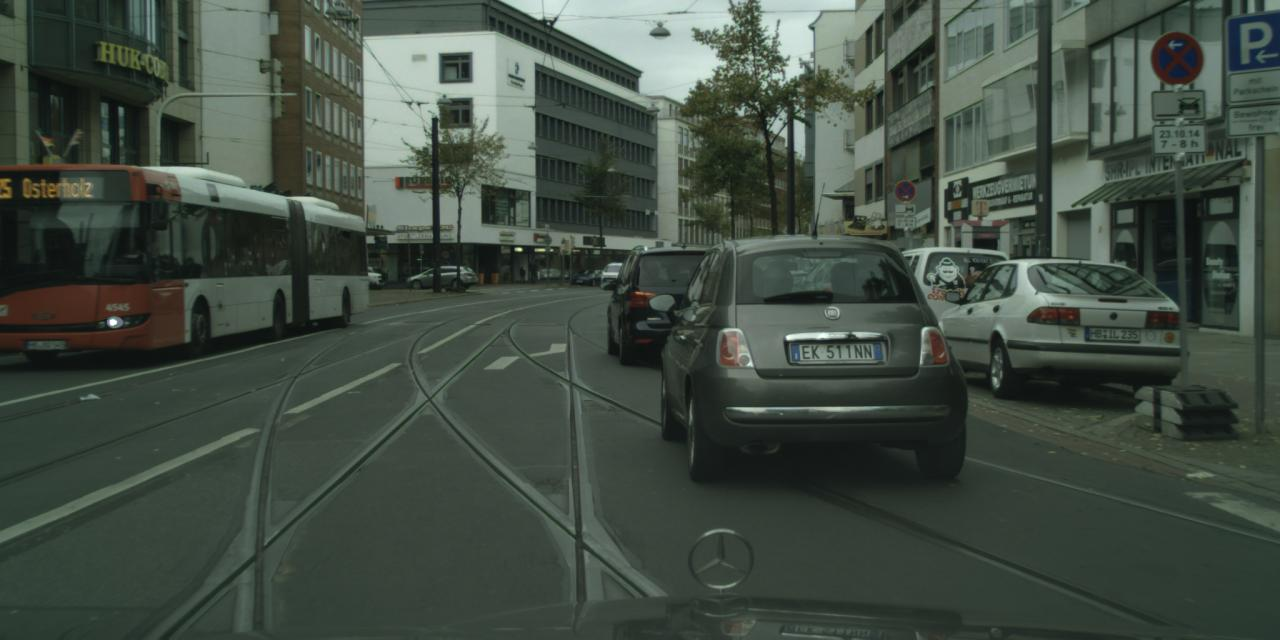ped: (527, 260, 537, 282), (520, 266, 526, 282)
